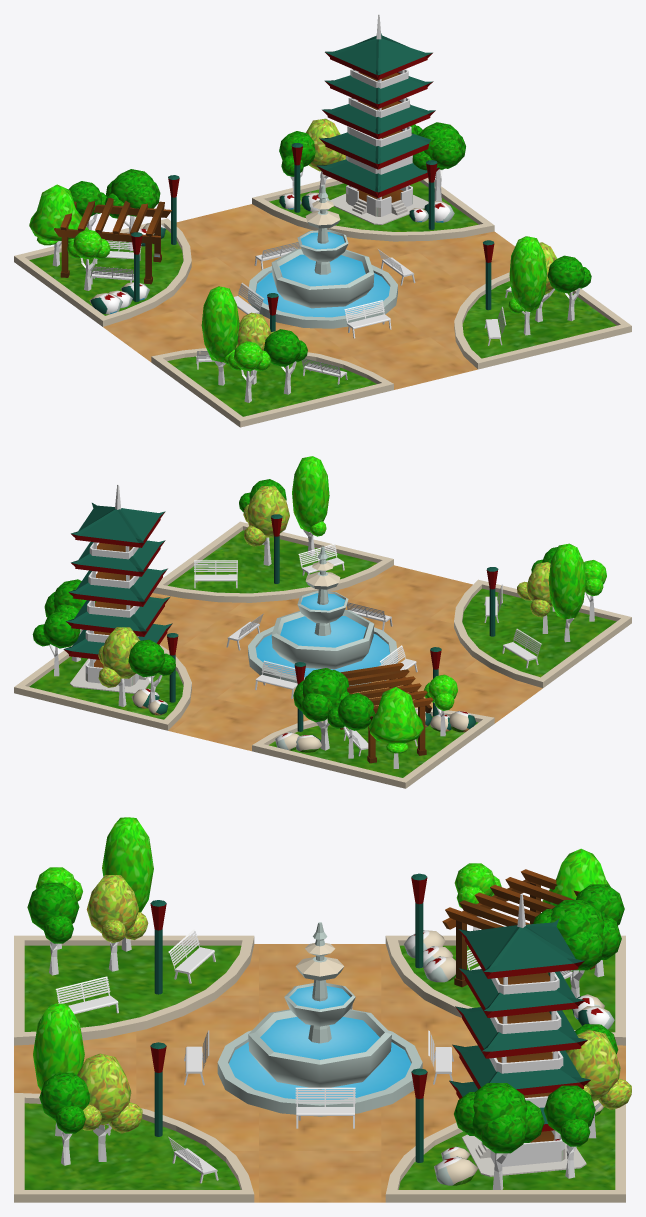
Rendered from Park_LV3.fbx.
3 views of the same model, one above another, from view 1: azimuth 30°, elevation 25°; view 2: azimuth 150°, elevation 25°; view 3: azimuth 270°, elevation 25° (orthographic). The views are drawn at different scales.
Parts seen in each view (by area): view 1: pARK LEVEL 3; view 2: pARK LEVEL 3; view 3: pARK LEVEL 3.
Part boxes in pixels (left/top/right/bottom): pARK LEVEL 3: left=14, top=14, right=631, bottom=427; pARK LEVEL 3: left=14, top=456, right=631, bottom=788; pARK LEVEL 3: left=14, top=817, right=631, bottom=1202.
Bounding box in the file's own units: 103 × 47.85 × 101.
